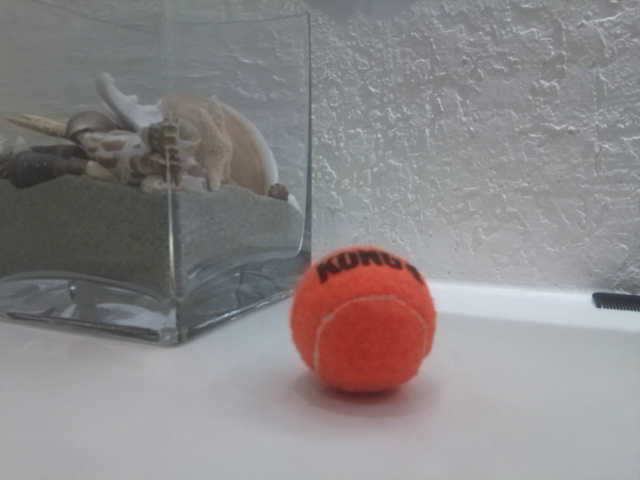orange-ball: (287, 243, 439, 398)
